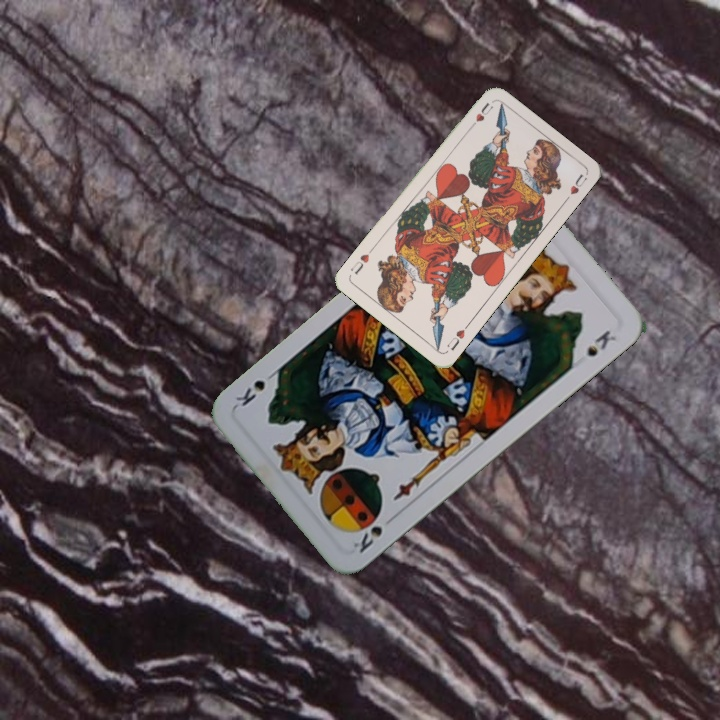HU: (465, 99, 496, 132), (443, 320, 472, 353)
SK: (349, 511, 398, 556)
